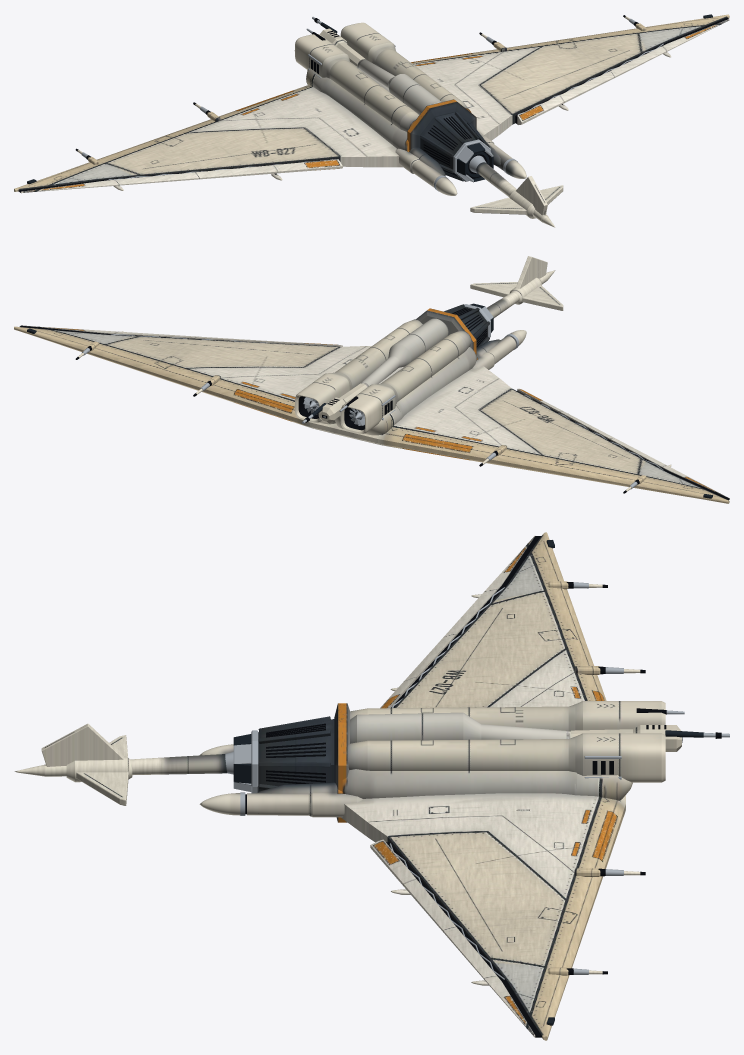
3 views of the same model, one above another, from view 1: azimuth 30°, elevation 25°; view 2: azimuth 150°, elevation 25°; view 3: azimuth 270°, elevation 25° (orthographic). The views are drawn at different scales.
Parts seen in each view (by area): view 1: Airframe_Wing, Nacelle_Tank_L, Nacelle_Tank_R, Elevon_L, Chine_Tank_L, Elevon_R, Spine_Core, Engine_Cowling, Engine_Collar, Aft_Pod_L, Tail_HStab_L, Tail_Boom (+3 smaller); view 2: Airframe_Wing, Nacelle_Tank_L, Nacelle_Tank_R, Spine_Core, Chine_Tank_L, Elevon_L, Engine_Collar, Elevon_R, Aft_Pod_L, Nose_Housing, Tail_VFin, Tail_HStab_L (+4 smaller); view 3: Airframe_Wing, Nacelle_Tank_R, Chine_Tank_R, Nacelle_Tank_L, Spine_Core, Engine_Cowling, Elevon_R, Aft_Pod_R, Tail_VFin, Tail_Boom, Elevon_L, Engine_Collar (+5 smaller).
Boxes of the visible parts, x1=… form: Airframe_Wing: x1=14, y1=14, x2=729, y2=191; Nacelle_Tank_L: x1=294, y1=34, x2=419, y2=132; Nacelle_Tank_R: x1=340, y1=22, x2=471, y2=112; Elevon_L: x1=106, y1=159, x2=342, y2=186; Chine_Tank_L: x1=320, y1=77, x2=408, y2=150; Elevon_R: x1=517, y1=43, x2=672, y2=124; Spine_Core: x1=357, y1=59, x2=441, y2=114; Engine_Cowling: x1=420, y1=112, x2=475, y2=177; Engine_Collar: x1=407, y1=99, x2=476, y2=149; Aft_Pod_L: x1=395, y1=148, x2=442, y2=187; Tail_HStab_L: x1=470, y1=197, x2=526, y2=214; Tail_Boom: x1=476, y1=162, x2=547, y2=221; Airframe_Wing: x1=14, y1=326, x2=729, y2=503; Nacelle_Tank_L: x1=340, y1=331, x2=471, y2=433; Nacelle_Tank_R: x1=294, y1=319, x2=422, y2=422; Spine_Core: x1=361, y1=318, x2=448, y2=386; Chine_Tank_L: x1=396, y1=347, x2=476, y2=417; Elevon_L: x1=517, y1=388, x2=671, y2=470; Engine_Collar: x1=416, y1=308, x2=476, y2=354; Elevon_R: x1=106, y1=331, x2=342, y2=346; Aft_Pod_L: x1=473, y1=336, x2=516, y2=369; Nose_Housing: x1=318, y1=383, x2=367, y2=423; Tail_VFin: x1=516, y1=256, x2=547, y2=289; Tail_HStab_L: x1=521, y1=285, x2=563, y2=310; Airframe_Wing: x1=341, y1=532, x2=625, y2=1040; Nacelle_Tank_R: x1=346, y1=733, x2=665, y2=782; Chine_Tank_R: x1=342, y1=769, x2=576, y2=798; Nacelle_Tank_L: x1=350, y1=701, x2=665, y2=731; Spine_Core: x1=350, y1=712, x2=570, y2=743; Engine_Cowling: x1=258, y1=719, x2=334, y2=791; Elevon_R: x1=370, y1=839, x2=501, y2=984; Aft_Pod_R: x1=247, y1=792, x2=362, y2=817; Tail_VFin: x1=41, y1=723, x2=123, y2=766; Tail_Boom: x1=44, y1=754, x2=227, y2=776; Elevon_L: x1=380, y1=584, x2=501, y2=708; Engine_Collar: x1=334, y1=703, x2=349, y2=822.
Bounding box in the file's own units: 2 × 0.1848 × 1.2.
Materials: 4 (1 with a texture image).
